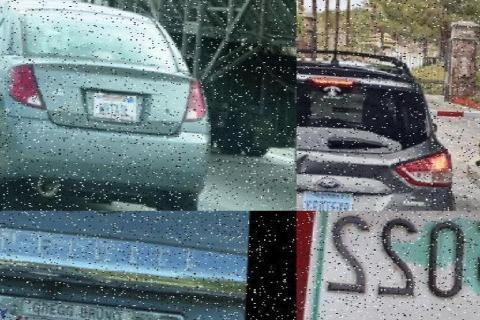LicensePlate: (323, 210, 480, 320), (94, 89, 142, 119), (303, 186, 353, 210)
